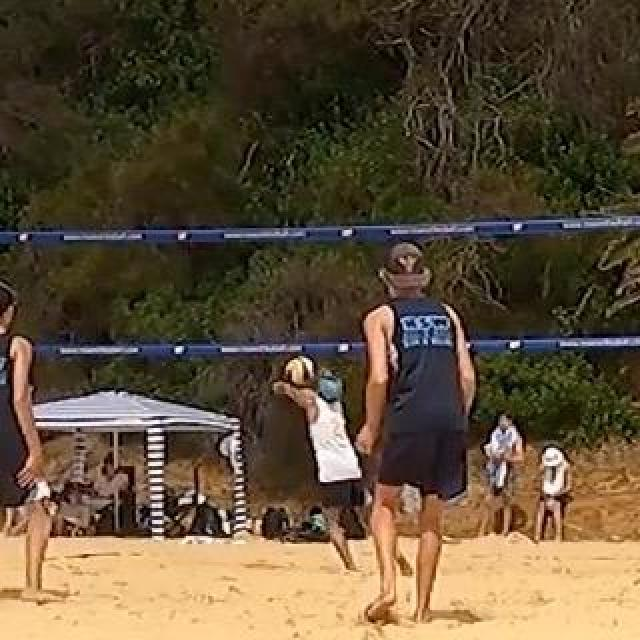volleyball: (286, 357, 316, 387)
